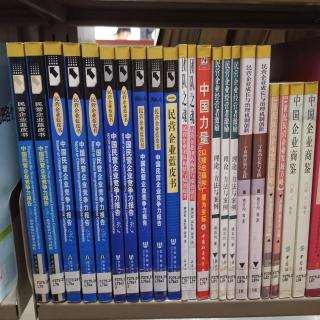book-spine: (4, 40, 53, 303), (24, 40, 68, 304), (42, 41, 82, 303), (62, 41, 97, 302), (80, 42, 112, 302), (99, 45, 127, 302), (129, 44, 155, 301), (246, 47, 272, 299), (115, 46, 139, 303), (277, 83, 305, 301), (292, 81, 318, 298), (235, 47, 256, 298), (147, 45, 166, 301), (163, 47, 181, 302), (269, 82, 290, 299), (195, 44, 212, 299), (261, 83, 281, 299), (216, 43, 232, 300), (207, 47, 222, 299), (227, 45, 240, 299), (178, 44, 190, 301), (187, 44, 198, 299)
